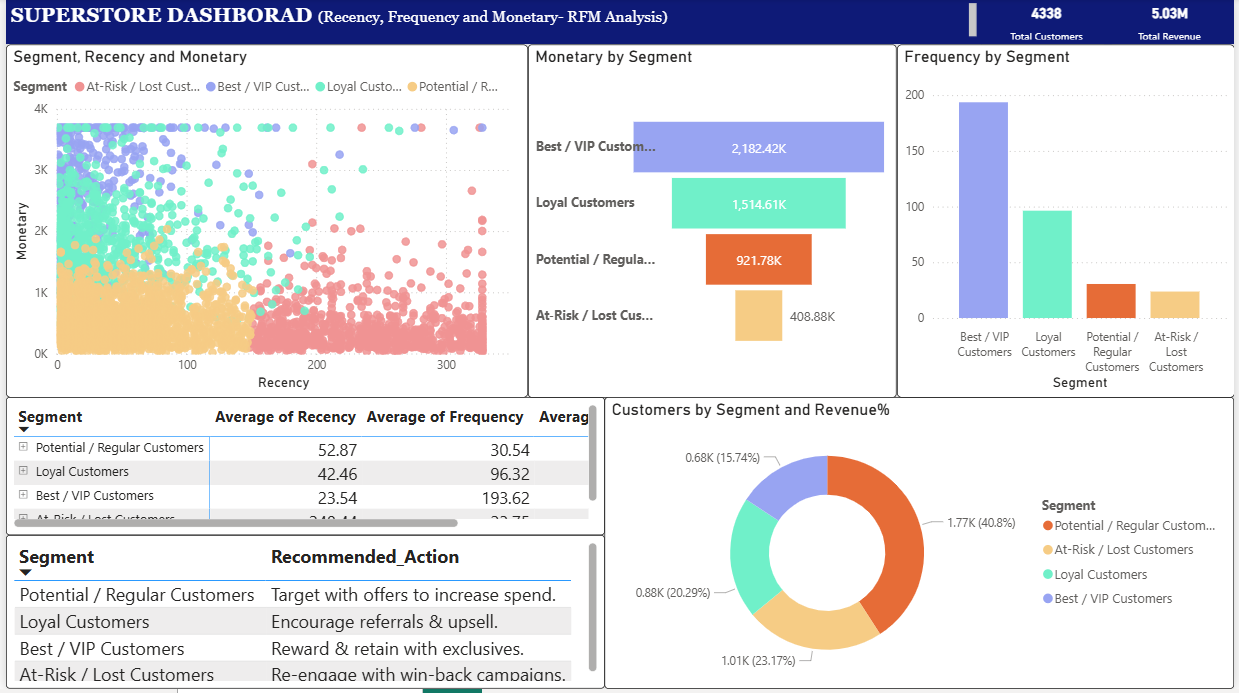

This screenshot's page, from the dashboard's own definition file:
{"tool":"powerbi","page":{"name":"RFM Cluster Segments","canvas":[1280,720],"ordinal":0},"visuals":[{"type":"scatterChart","fields":{"X":["customer_segmentation_detailed.Recency"],"Series":["customer_segmentation_detailed.Segment"],"Y":["customer_segmentation_detailed.Monetary"]},"box":[0,0,544,416],"z":0},{"type":"pivotTable","fields":{"Rows":["customer_segmentation_detailed.Segment","customer_segmentation_detailed.CustomerID"],"Values":["Avg(customer_segmentation_detailed.Recency)","Avg(customer_segmentation_detailed.Frequency)","Avg(customer_segmentation_detailed.Monetary)"]},"box":[0,416,624,144],"z":1000},{"type":"actionButton","box":[0,0,100,40],"z":2000},{"type":"funnel","fields":{"Category":["customer_segmentation_summary.Segment"],"Y":["Sum(customer_segmentation_detailed.Monetary)"]},"box":[544,0,384,416],"z":3000},{"type":"donutChart","fields":{"Category":["customer_segmentation_summary.Segment"],"Y":["CountNonNull(customer_segmentation_detailed.CustomerID)"],"Series":["customer_segmentation_summary.Revenue%"]},"box":[624,416,656,304],"z":4000},{"type":"tableEx","fields":{"Values":["customer_segmentation_summary.Segment","customer_segmentation_summary.Recommended_Action"]},"box":[0,560,624,160],"z":5000},{"type":"clusteredColumnChart","fields":{"Category":["customer_segmentation_summary.Segment"],"Y":["Avg(customer_segmentation_detailed.Frequency)"]},"box":[928,128,352,288],"z":6000},{"type":"card","fields":{"Values":["Sum(customer_segmentation_summary.NumCustomers)"]},"box":[1072,400,208,128],"z":7000},{"type":"card","fields":{"Values":["Sum(customer_segmentation_summary.TotalRevenue)"]},"box":[720,0,208,96],"z":8000},{"type":"textbox","box":[928,0,352,48],"z":9000},{"type":"textbox","box":[928,48,352,80],"z":10000}]}

Visuals, with their boxes in screenshot pixels (x1, y1, x2, y2), scaled from the page's 1280x720 canvas onto the 1239x693 screenshot:
scatterChart - customer_segmentation_detailed.Recency x customer_segmentation_detailed.Segment: [left=0, top=0, right=527, bottom=400]
pivotTable - customer_segmentation_detailed.Segment x customer_segmentation_detailed.CustomerID: [left=0, top=400, right=604, bottom=539]
actionButton: [left=0, top=0, right=97, bottom=38]
funnel - customer_segmentation_summary.Segment x Sum(customer_segmentation_detailed.Monetary): [left=527, top=0, right=898, bottom=400]
donutChart - customer_segmentation_summary.Segment x CountNonNull(customer_segmentation_detailed.CustomerID): [left=604, top=400, right=1238, bottom=692]
tableEx - customer_segmentation_summary.Segment x customer_segmentation_summary.Recommended_Action: [left=0, top=539, right=604, bottom=692]
clusteredColumnChart - customer_segmentation_summary.Segment x Avg(customer_segmentation_detailed.Frequency): [left=898, top=123, right=1238, bottom=400]
card - Sum(customer_segmentation_summary.NumCustomers): [left=1038, top=385, right=1238, bottom=508]
card - Sum(customer_segmentation_summary.TotalRevenue): [left=697, top=0, right=898, bottom=92]
textbox: [left=898, top=0, right=1238, bottom=46]
textbox: [left=898, top=46, right=1238, bottom=123]
